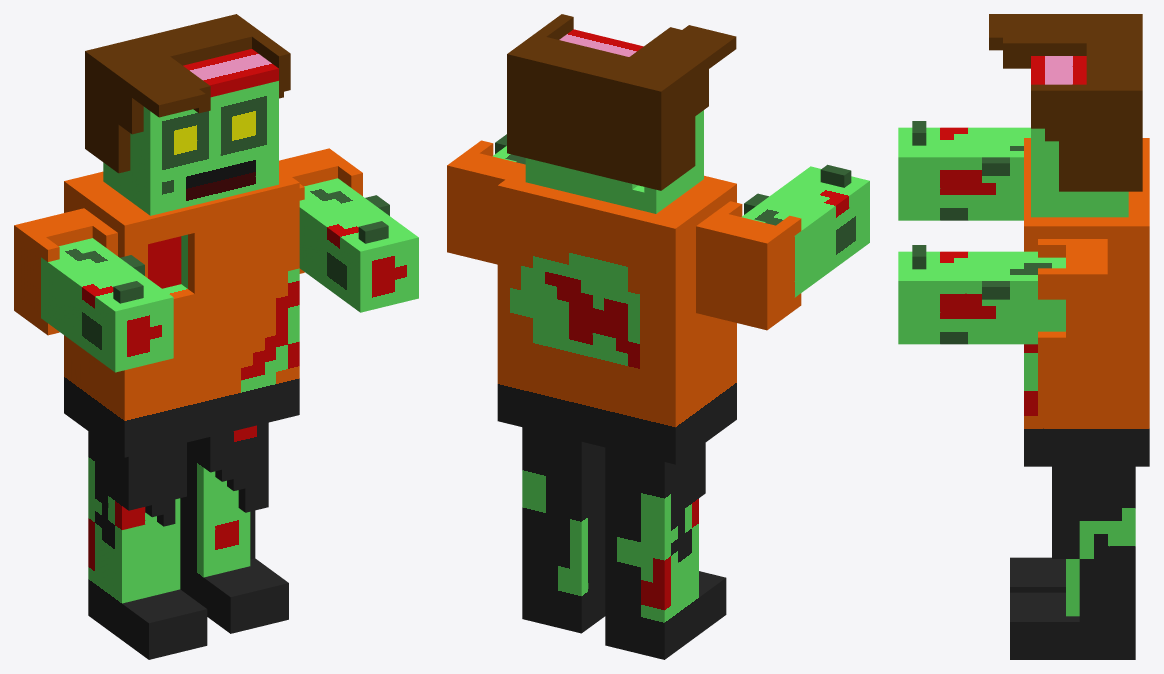
File: ZombieDAE.dae
The picture shows the model from 3 angles, left to right: view 1: azimuth 30°, elevation 25°; view 2: azimuth 150°, elevation 25°; view 3: azimuth 270°, elevation 25°; orthographic projection. The views are drawn at different scales.
Visible parts, largest first — view 1: Pecho-local, Cabeza-local, PieDerecho-local, ManoDerecha-local, PieIzquierdo-local, ManoIzquierda-local; view 2: Pecho-local, Cabeza-local, PieDerecho-local, ManoDerecha-local, PieIzquierdo-local, ManoIzquierda-local; view 3: Cabeza-local, Pecho-local, ManoIzquierda-local, PieIzquierdo-local, ManoDerecha-local, PieDerecho-local.
Boxes of the visible parts, x1,y1,x2,y2 form: Pecho-local: [64, 168, 299, 457]; Cabeza-local: [85, 14, 290, 215]; PieDerecho-local: [88, 431, 207, 659]; ManoDerecha-local: [14, 208, 173, 372]; PieIzquierdo-local: [180, 422, 288, 633]; ManoIzquierda-local: [279, 148, 418, 312]; Pecho-local: [497, 165, 736, 464]; Cabeza-local: [507, 14, 736, 213]; PieDerecho-local: [605, 443, 726, 659]; ManoDerecha-local: [696, 164, 869, 330]; PieIzquierdo-local: [522, 427, 605, 633]; ManoIzquierda-local: [447, 134, 525, 264]; Cabeza-local: [989, 14, 1142, 217]; Pecho-local: [1024, 138, 1149, 466]; ManoIzquierda-local: [898, 239, 1107, 362]; PieIzquierdo-local: [1010, 466, 1135, 659]; ManoDerecha-local: [898, 121, 1030, 220]; PieDerecho-local: [1010, 557, 1065, 592].
Size of the model in its own units: 27 by 46 by 18.
6 materials, 6 textured.
